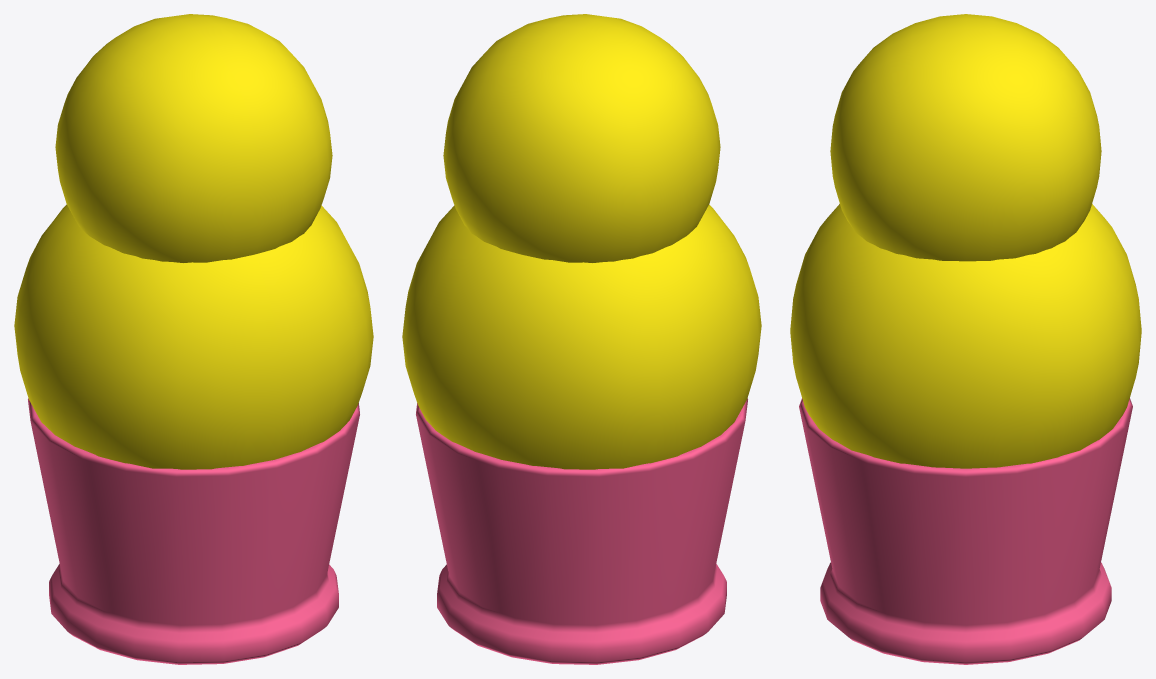
File: Store_8_Candy_Decoration_3.glb
3 renders of one model, left to right at view 1: azimuth 30°, elevation 25°; view 2: azimuth 150°, elevation 25°; view 3: azimuth 270°, elevation 25°, orthographic.
Parts seen in each view (by area): view 1: Store_8_Candy_Decoration_3; view 2: Store_8_Candy_Decoration_3; view 3: Store_8_Candy_Decoration_3.
Boxes of the visible parts, x1,y1,x2,y2 form: Store_8_Candy_Decoration_3: (14,14,373,664); Store_8_Candy_Decoration_3: (402,14,761,664); Store_8_Candy_Decoration_3: (790,14,1141,664).
Bounding box in the file's own units: 0.5769 × 1.05 × 0.5769.
1 material, 1 textured.
